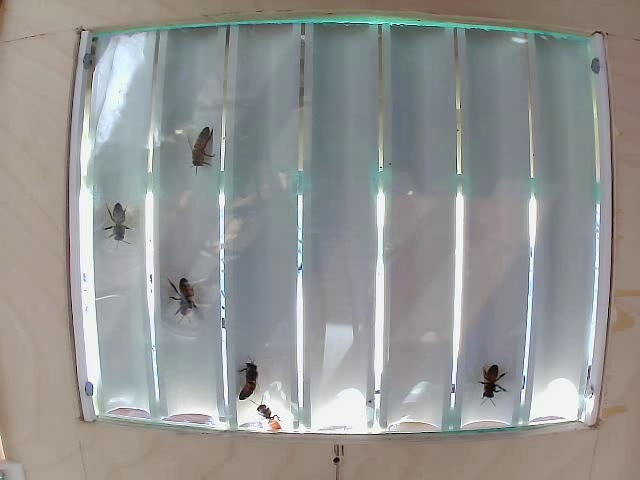bee: (169, 274, 205, 314), (93, 199, 130, 236), (192, 126, 218, 177), (233, 367, 264, 405), (481, 373, 507, 407)
